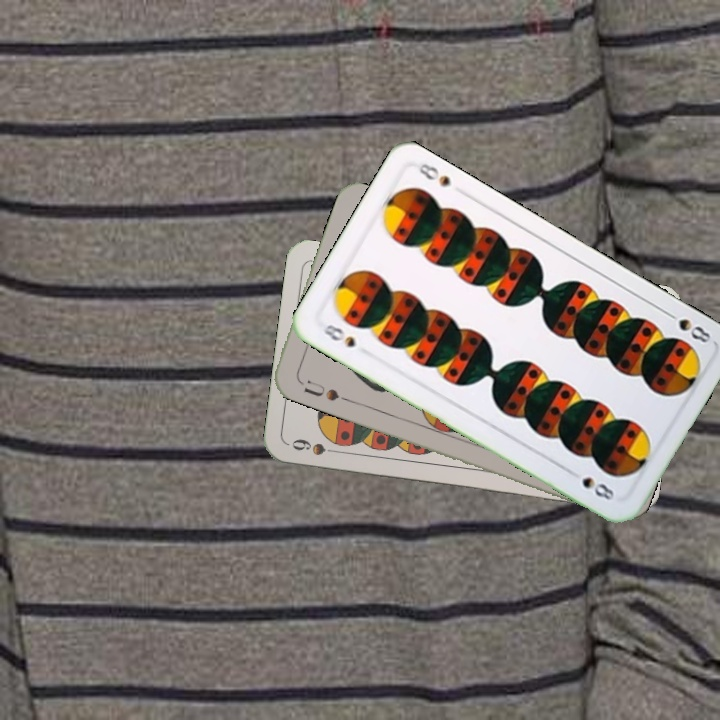S8: (660, 307, 713, 346), (319, 320, 358, 351)
S9: (287, 435, 346, 458)
SU: (299, 376, 342, 404)
